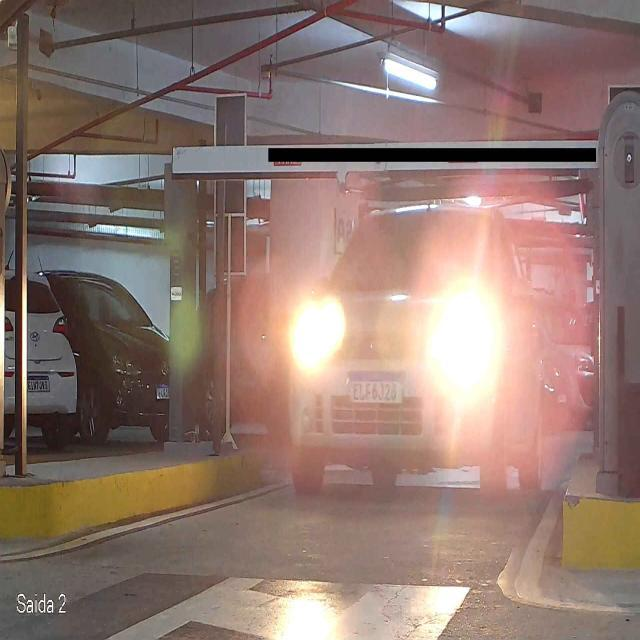mercosul_plate: (346, 372, 405, 405)
